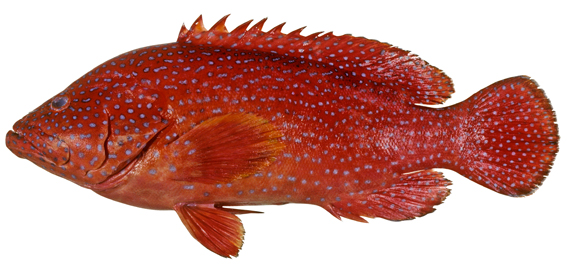fish: (6, 14, 559, 257)
